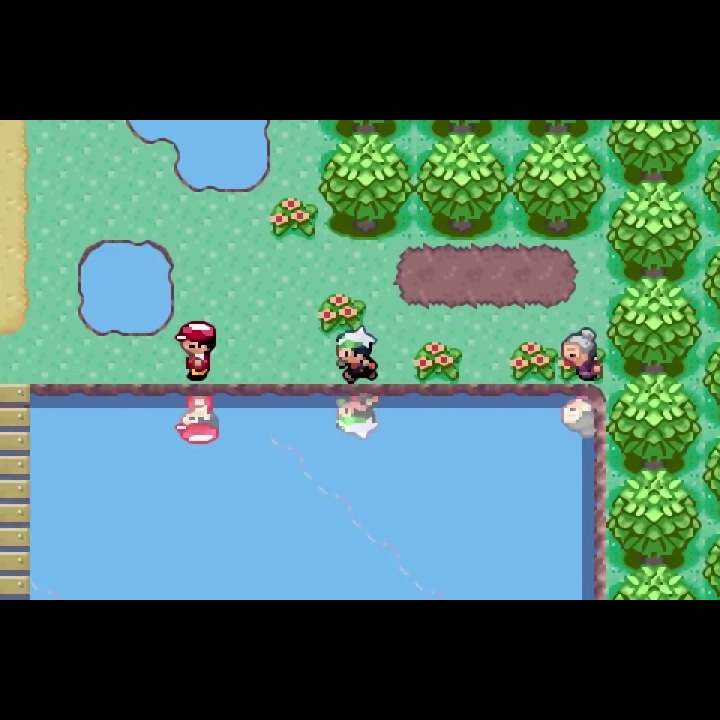npc: (172, 319, 219, 383), (333, 325, 380, 384), (559, 325, 606, 383)
wall: (510, 135, 607, 244), (414, 135, 510, 241), (319, 133, 414, 240), (608, 466, 703, 567), (607, 182, 703, 280), (606, 277, 704, 373), (606, 374, 701, 471), (608, 119, 704, 183), (608, 565, 703, 600), (510, 120, 608, 146), (415, 120, 511, 145), (320, 120, 414, 145)
